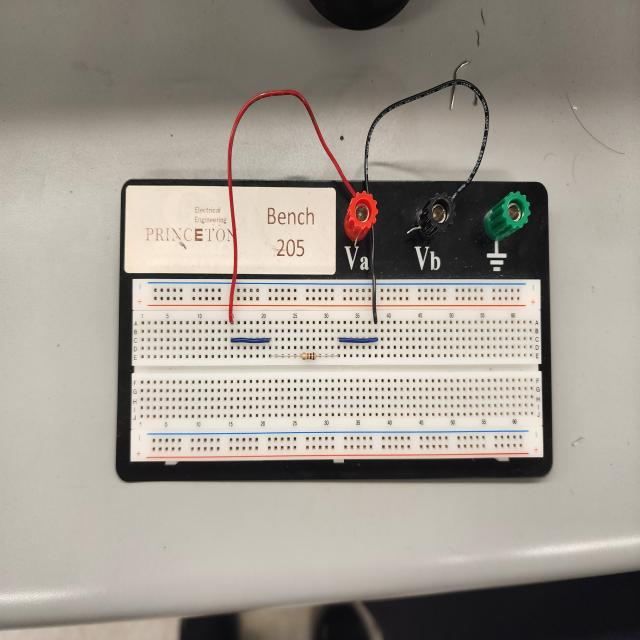Resistor Carbon-Film: (299, 348, 318, 362)
